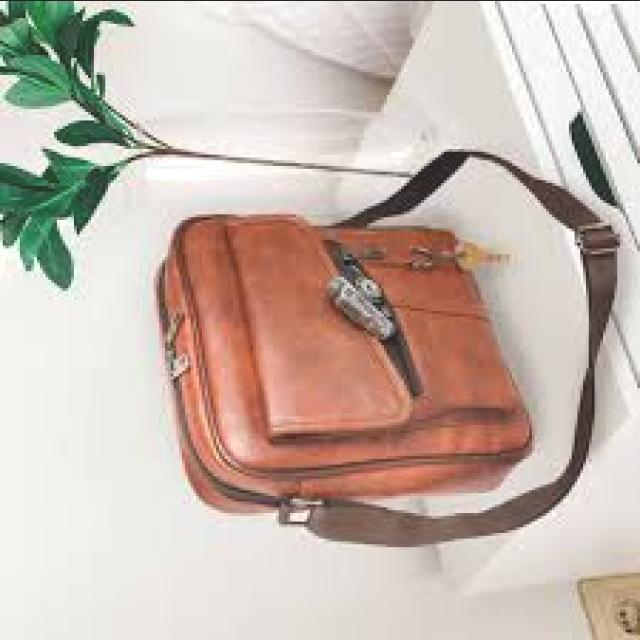backpack: (152, 152, 618, 550)
